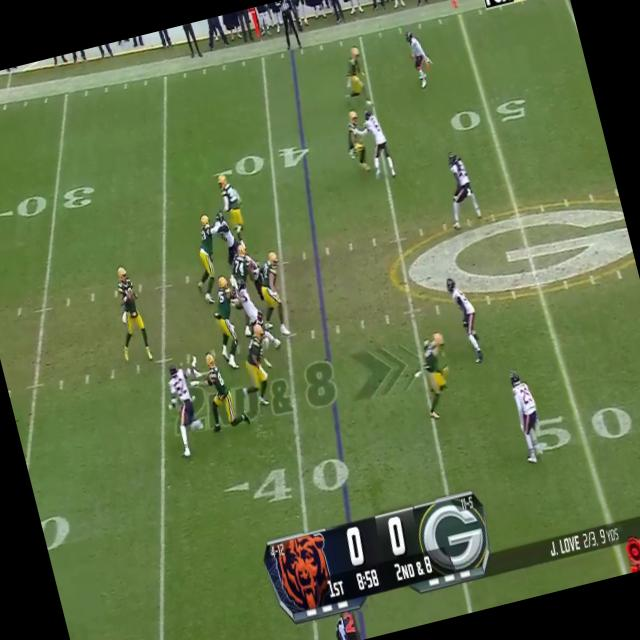Player: (249, 251, 302, 353), (194, 348, 247, 437), (203, 268, 250, 367), (161, 359, 207, 456), (414, 332, 462, 422), (506, 366, 550, 464), (444, 273, 488, 368), (235, 322, 282, 406), (188, 212, 232, 300), (440, 144, 482, 230), (358, 104, 398, 180), (400, 26, 438, 92), (338, 110, 374, 179), (336, 45, 372, 109), (215, 167, 248, 235), (211, 204, 241, 268), (222, 242, 258, 292), (234, 276, 265, 331)
Referee: (106, 261, 156, 367)
